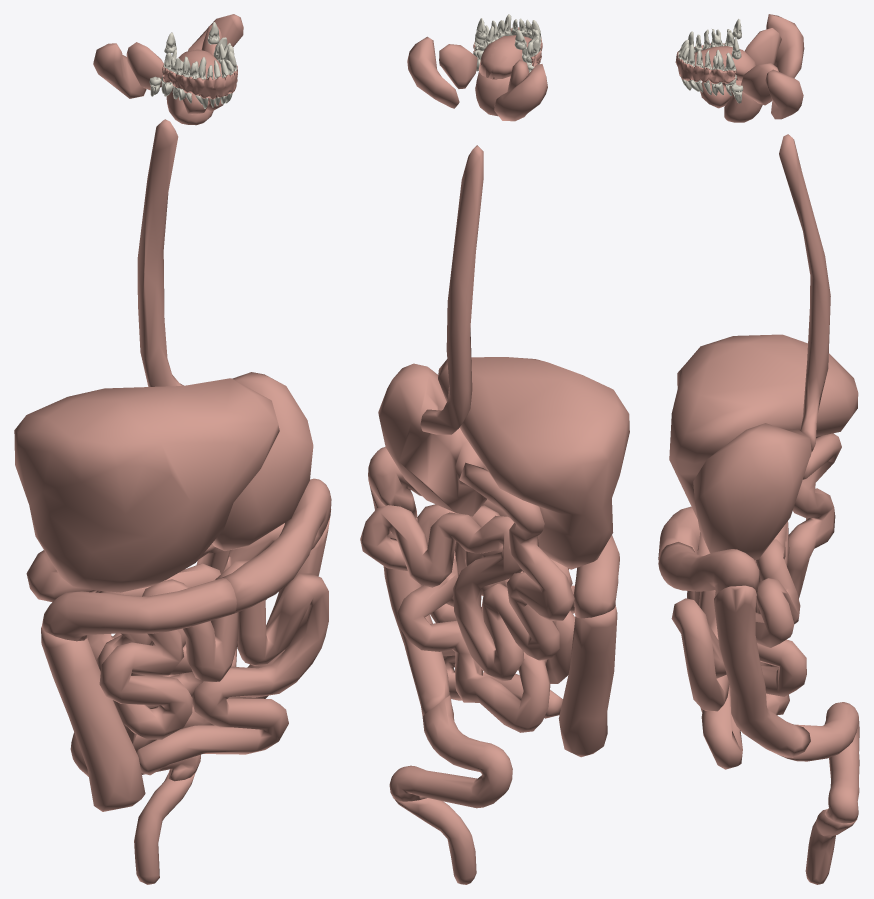
File: pediatric_adolescent_female.digestive.LOD2.glb
The picture shows the model from 3 angles, left to right: view 1: azimuth 30°, elevation 25°; view 2: azimuth 150°, elevation 25°; view 3: azimuth 270°, elevation 25°; orthographic projection. The views are drawn at different scales.
Visible parts, largest first — view 1: PEDIATRIC.ADOLESCENT.FEMALE.DIGESTIVE.LIVER, PEDIATRIC.ADOLESCENT.FEMALE.DIGESTIVE.SMALL_INTESTINE_WALL, PEDIATRIC.ADOLESCENT.FEMALE.DIGESTIVE.TRANSVERSE_COLON_WALL. (×2), PEDIATRIC.ADOLESCENT.FEMALE.DIGESTIVE.ASCENDING_COLON_WALL, PEDIATRIC.ADOLESCENT.FEMALE.DIGESTIVE.STOMACH_WALL, PEDIATRIC.ADOLESCENT.FEMALE.DIGESTIVE.OESOPHAGUS_WALL, PEDIATRIC.ADOLESCENT.FEMALE.DIGESTIVE.SALIVARY_GLANDS.R, PEDIATRIC.ADOLESCENT.FEMALE.DIGESTIVE.RECTUM_WALL, PEDIATRIC.ADOLESCENT.FEMALE.DIGESTIVE.PERMANENT_CEMENTUM, PEDIATRIC.ADOLESCENT.FEMALE.DIGESTIVE.ORAL_MUCOSA_LIP_AND_CH, PEDIATRIC.ADOLESCENT.FEMALE.DIGESTIVE.SALIVARY_GLANDS.L, PEDIATRIC.ADOLESCENT.FEMALE.DIGESTIVE.DESCENDING_COLON_WALL (+2 smaller); view 2: PEDIATRIC.ADOLESCENT.FEMALE.DIGESTIVE.SMALL_INTESTINE_WALL, PEDIATRIC.ADOLESCENT.FEMALE.DIGESTIVE.LIVER, PEDIATRIC.ADOLESCENT.FEMALE.DIGESTIVE.STOMACH_WALL, PEDIATRIC.ADOLESCENT.FEMALE.DIGESTIVE.OESOPHAGUS_WALL, PEDIATRIC.ADOLESCENT.FEMALE.DIGESTIVE.SIGMOID_COLON_WALL, PEDIATRIC.ADOLESCENT.FEMALE.DIGESTIVE.ASCENDING_COLON_WALL, PEDIATRIC.ADOLESCENT.FEMALE.DIGESTIVE.TRANSVERSE_COLON_WALL. (×2), PEDIATRIC.ADOLESCENT.FEMALE.DIGESTIVE.DESCENDING_COLON_WALL, PEDIATRIC.ADOLESCENT.FEMALE.DIGESTIVE.SALIVARY_GLANDS.L, PEDIATRIC.ADOLESCENT.FEMALE.DIGESTIVE.RECTUM_WALL, PEDIATRIC.ADOLESCENT.FEMALE.DIGESTIVE.SALIVARY_GLANDS.R, PEDIATRIC.ADOLESCENT.FEMALE.DIGESTIVE.PERMANENT_CEMENTUM (+2 smaller); view 3: PEDIATRIC.ADOLESCENT.FEMALE.DIGESTIVE.SMALL_INTESTINE_WALL, PEDIATRIC.ADOLESCENT.FEMALE.DIGESTIVE.LIVER, PEDIATRIC.ADOLESCENT.FEMALE.DIGESTIVE.STOMACH_WALL, PEDIATRIC.ADOLESCENT.FEMALE.DIGESTIVE.DESCENDING_COLON_WALL, PEDIATRIC.ADOLESCENT.FEMALE.DIGESTIVE.OESOPHAGUS_WALL, PEDIATRIC.ADOLESCENT.FEMALE.DIGESTIVE.TRANSVERSE_COLON_WALL. (×2), PEDIATRIC.ADOLESCENT.FEMALE.DIGESTIVE.SIGMOID_COLON_WALL, PEDIATRIC.ADOLESCENT.FEMALE.DIGESTIVE.SALIVARY_GLANDS.L, PEDIATRIC.ADOLESCENT.FEMALE.DIGESTIVE.SALIVARY_GLANDS.R, PEDIATRIC.ADOLESCENT.FEMALE.DIGESTIVE.PERMANENT_CEMENTUM, PEDIATRIC.ADOLESCENT.FEMALE.DIGESTIVE.RECTUM_WALL, PEDIATRIC.ADOLESCENT.FEMALE.DIGESTIVE.ORAL_MUCOSA_LIP_AND_CH (+2 smaller).
Boxes of the visible parts, box(x1,y1,x2,y2) form: PEDIATRIC.ADOLESCENT.FEMALE.DIGESTIVE.LIVER: box(14, 378, 279, 592); PEDIATRIC.ADOLESCENT.FEMALE.DIGESTIVE.SMALL_INTESTINE_WALL: box(26, 523, 328, 775); PEDIATRIC.ADOLESCENT.FEMALE.DIGESTIVE.TRANSVERSE_COLON_WALL. (×2): box(41, 478, 331, 641); PEDIATRIC.ADOLESCENT.FEMALE.DIGESTIVE.ASCENDING_COLON_WALL: box(41, 627, 145, 811); PEDIATRIC.ADOLESCENT.FEMALE.DIGESTIVE.STOMACH_WALL: box(212, 372, 313, 550); PEDIATRIC.ADOLESCENT.FEMALE.DIGESTIVE.OESOPHAGUS_WALL: box(137, 119, 183, 386); PEDIATRIC.ADOLESCENT.FEMALE.DIGESTIVE.SALIVARY_GLANDS.R: box(93, 42, 209, 114); PEDIATRIC.ADOLESCENT.FEMALE.DIGESTIVE.RECTUM_WALL: box(134, 773, 195, 884); PEDIATRIC.ADOLESCENT.FEMALE.DIGESTIVE.PERMANENT_CEMENTUM: box(150, 22, 236, 108); PEDIATRIC.ADOLESCENT.FEMALE.DIGESTIVE.ORAL_MUCOSA_LIP_AND_CH: box(162, 65, 237, 99); PEDIATRIC.ADOLESCENT.FEMALE.DIGESTIVE.SALIVARY_GLANDS.L: box(188, 14, 243, 111); PEDIATRIC.ADOLESCENT.FEMALE.DIGESTIVE.DESCENDING_COLON_WALL: box(228, 509, 331, 698); PEDIATRIC.ADOLESCENT.FEMALE.DIGESTIVE.SMALL_INTESTINE_WALL: box(360, 462, 575, 732); PEDIATRIC.ADOLESCENT.FEMALE.DIGESTIVE.LIVER: box(438, 357, 629, 569); PEDIATRIC.ADOLESCENT.FEMALE.DIGESTIVE.STOMACH_WALL: box(378, 363, 487, 516); PEDIATRIC.ADOLESCENT.FEMALE.DIGESTIVE.OESOPHAGUS_WALL: box(420, 145, 483, 434); PEDIATRIC.ADOLESCENT.FEMALE.DIGESTIVE.SIGMOID_COLON_WALL: box(389, 695, 512, 808); PEDIATRIC.ADOLESCENT.FEMALE.DIGESTIVE.ASCENDING_COLON_WALL: box(558, 605, 617, 757); PEDIATRIC.ADOLESCENT.FEMALE.DIGESTIVE.TRANSVERSE_COLON_WALL. (×2): box(368, 447, 619, 618); PEDIATRIC.ADOLESCENT.FEMALE.DIGESTIVE.DESCENDING_COLON_WALL: box(368, 481, 449, 716); PEDIATRIC.ADOLESCENT.FEMALE.DIGESTIVE.SALIVARY_GLANDS.L: box(407, 36, 477, 108); PEDIATRIC.ADOLESCENT.FEMALE.DIGESTIVE.RECTUM_WALL: box(395, 798, 476, 884); PEDIATRIC.ADOLESCENT.FEMALE.DIGESTIVE.SALIVARY_GLANDS.R: box(494, 59, 547, 121); PEDIATRIC.ADOLESCENT.FEMALE.DIGESTIVE.PERMANENT_CEMENTUM: box(474, 14, 541, 72); PEDIATRIC.ADOLESCENT.FEMALE.DIGESTIVE.SMALL_INTESTINE_WALL: box(671, 433, 841, 769); PEDIATRIC.ADOLESCENT.FEMALE.DIGESTIVE.LIVER: box(669, 334, 858, 518); PEDIATRIC.ADOLESCENT.FEMALE.DIGESTIVE.STOMACH_WALL: box(693, 423, 811, 560); PEDIATRIC.ADOLESCENT.FEMALE.DIGESTIVE.DESCENDING_COLON_WALL: box(714, 585, 810, 757); PEDIATRIC.ADOLESCENT.FEMALE.DIGESTIVE.OESOPHAGUS_WALL: box(779, 134, 830, 451); PEDIATRIC.ADOLESCENT.FEMALE.DIGESTIVE.TRANSVERSE_COLON_WALL. (×2): box(658, 506, 759, 597); PEDIATRIC.ADOLESCENT.FEMALE.DIGESTIVE.SIGMOID_COLON_WALL: box(779, 702, 859, 823); PEDIATRIC.ADOLESCENT.FEMALE.DIGESTIVE.SALIVARY_GLANDS.L: box(700, 63, 803, 119); PEDIATRIC.ADOLESCENT.FEMALE.DIGESTIVE.SALIVARY_GLANDS.R: box(701, 14, 804, 85); PEDIATRIC.ADOLESCENT.FEMALE.DIGESTIVE.PERMANENT_CEMENTUM: box(678, 19, 742, 103); PEDIATRIC.ADOLESCENT.FEMALE.DIGESTIVE.RECTUM_WALL: box(805, 809, 856, 884); PEDIATRIC.ADOLESCENT.FEMALE.DIGESTIVE.ORAL_MUCOSA_LIP_AND_CH: box(675, 43, 736, 83).
Bounding box in the file's own units: 0.2446 × 0.7343 × 0.1563.
